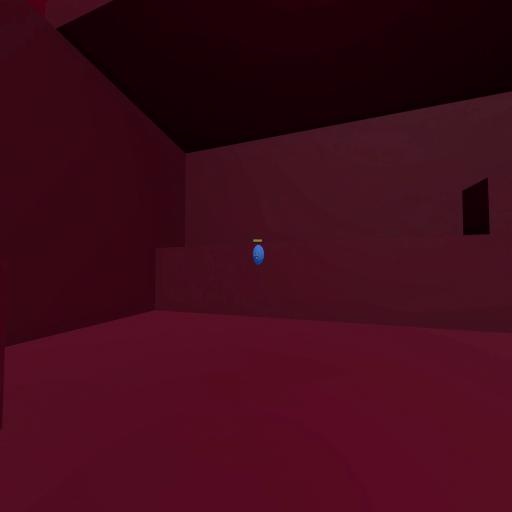Crosshair: (254, 252, 258, 260)
Target: (252, 244, 264, 266)
